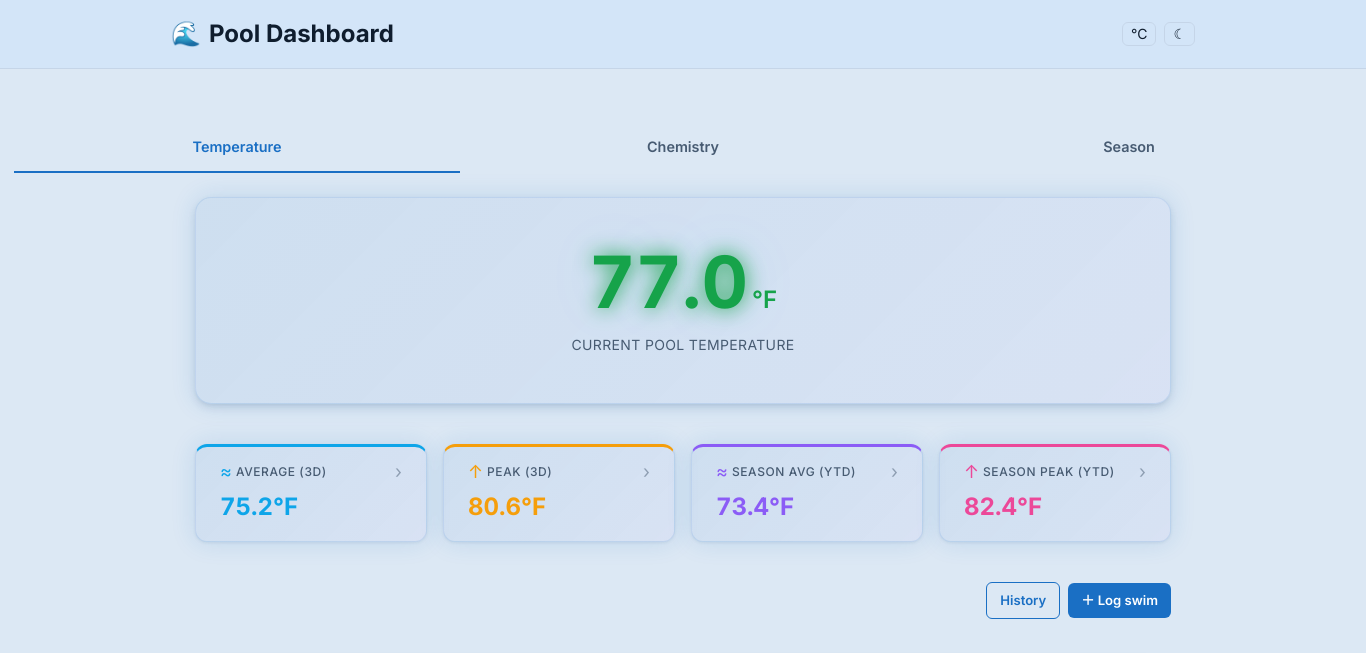
Test: App › switches to the Chemistry tab
Click the tab "Chemistry".
click(683, 150)  # box x1=460 y1=127 x2=906 y2=173
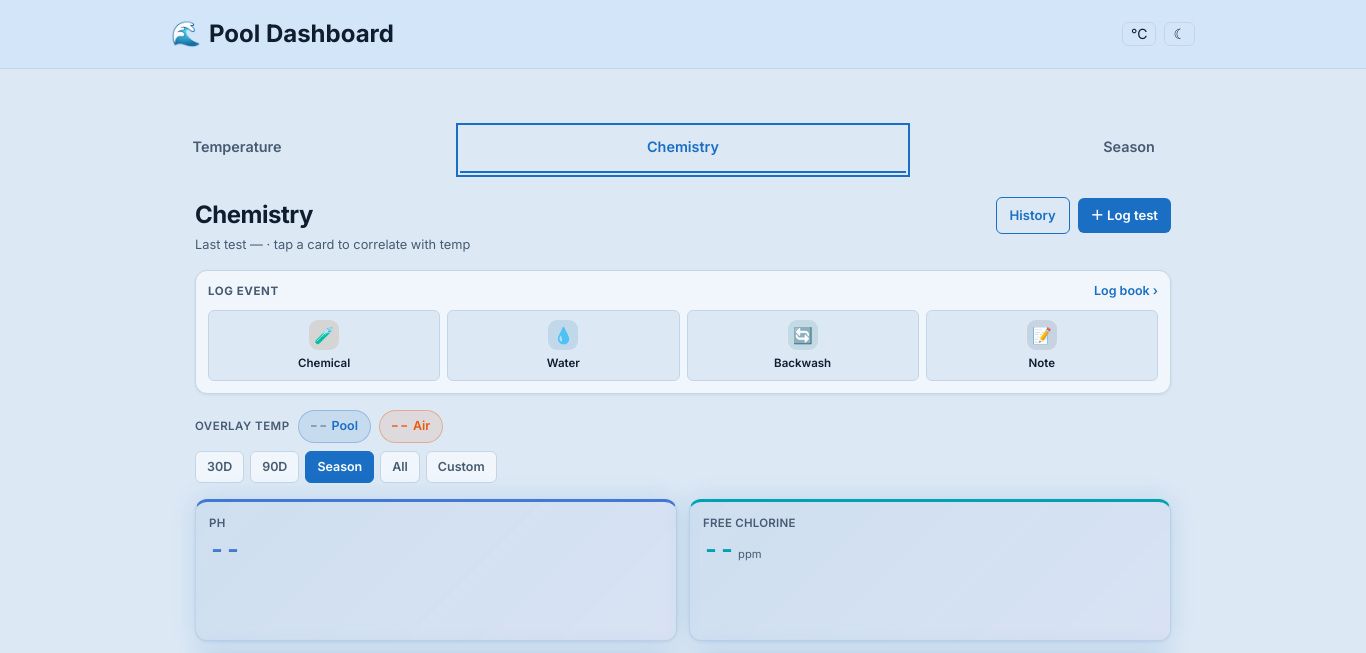
Expected: the heading "Chemistry" is shown, x1=195 y1=200 x2=313 y2=229
